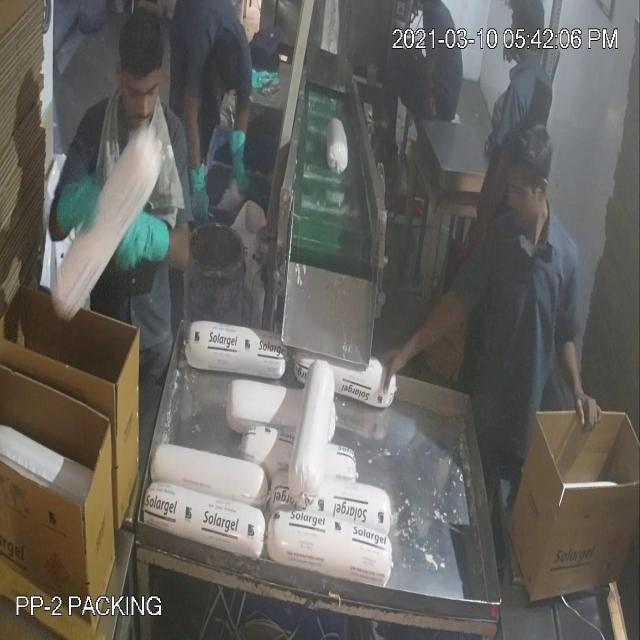No_Gloves: (28, 66, 580, 384)
